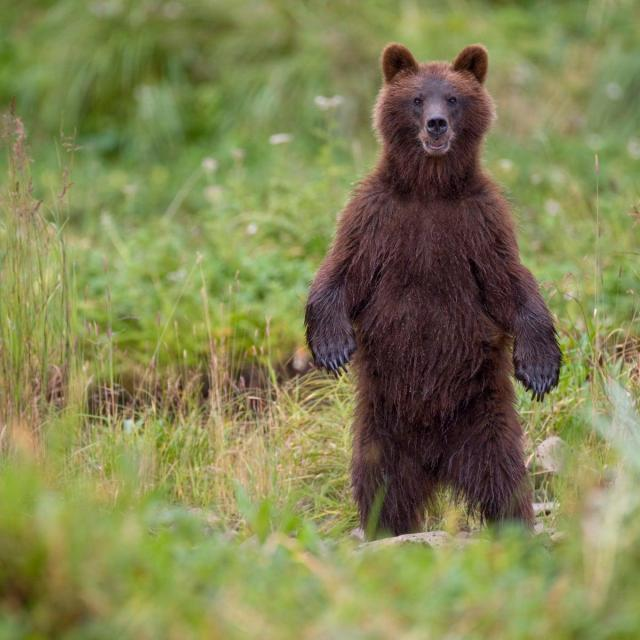Bear: (305, 44, 563, 542)
